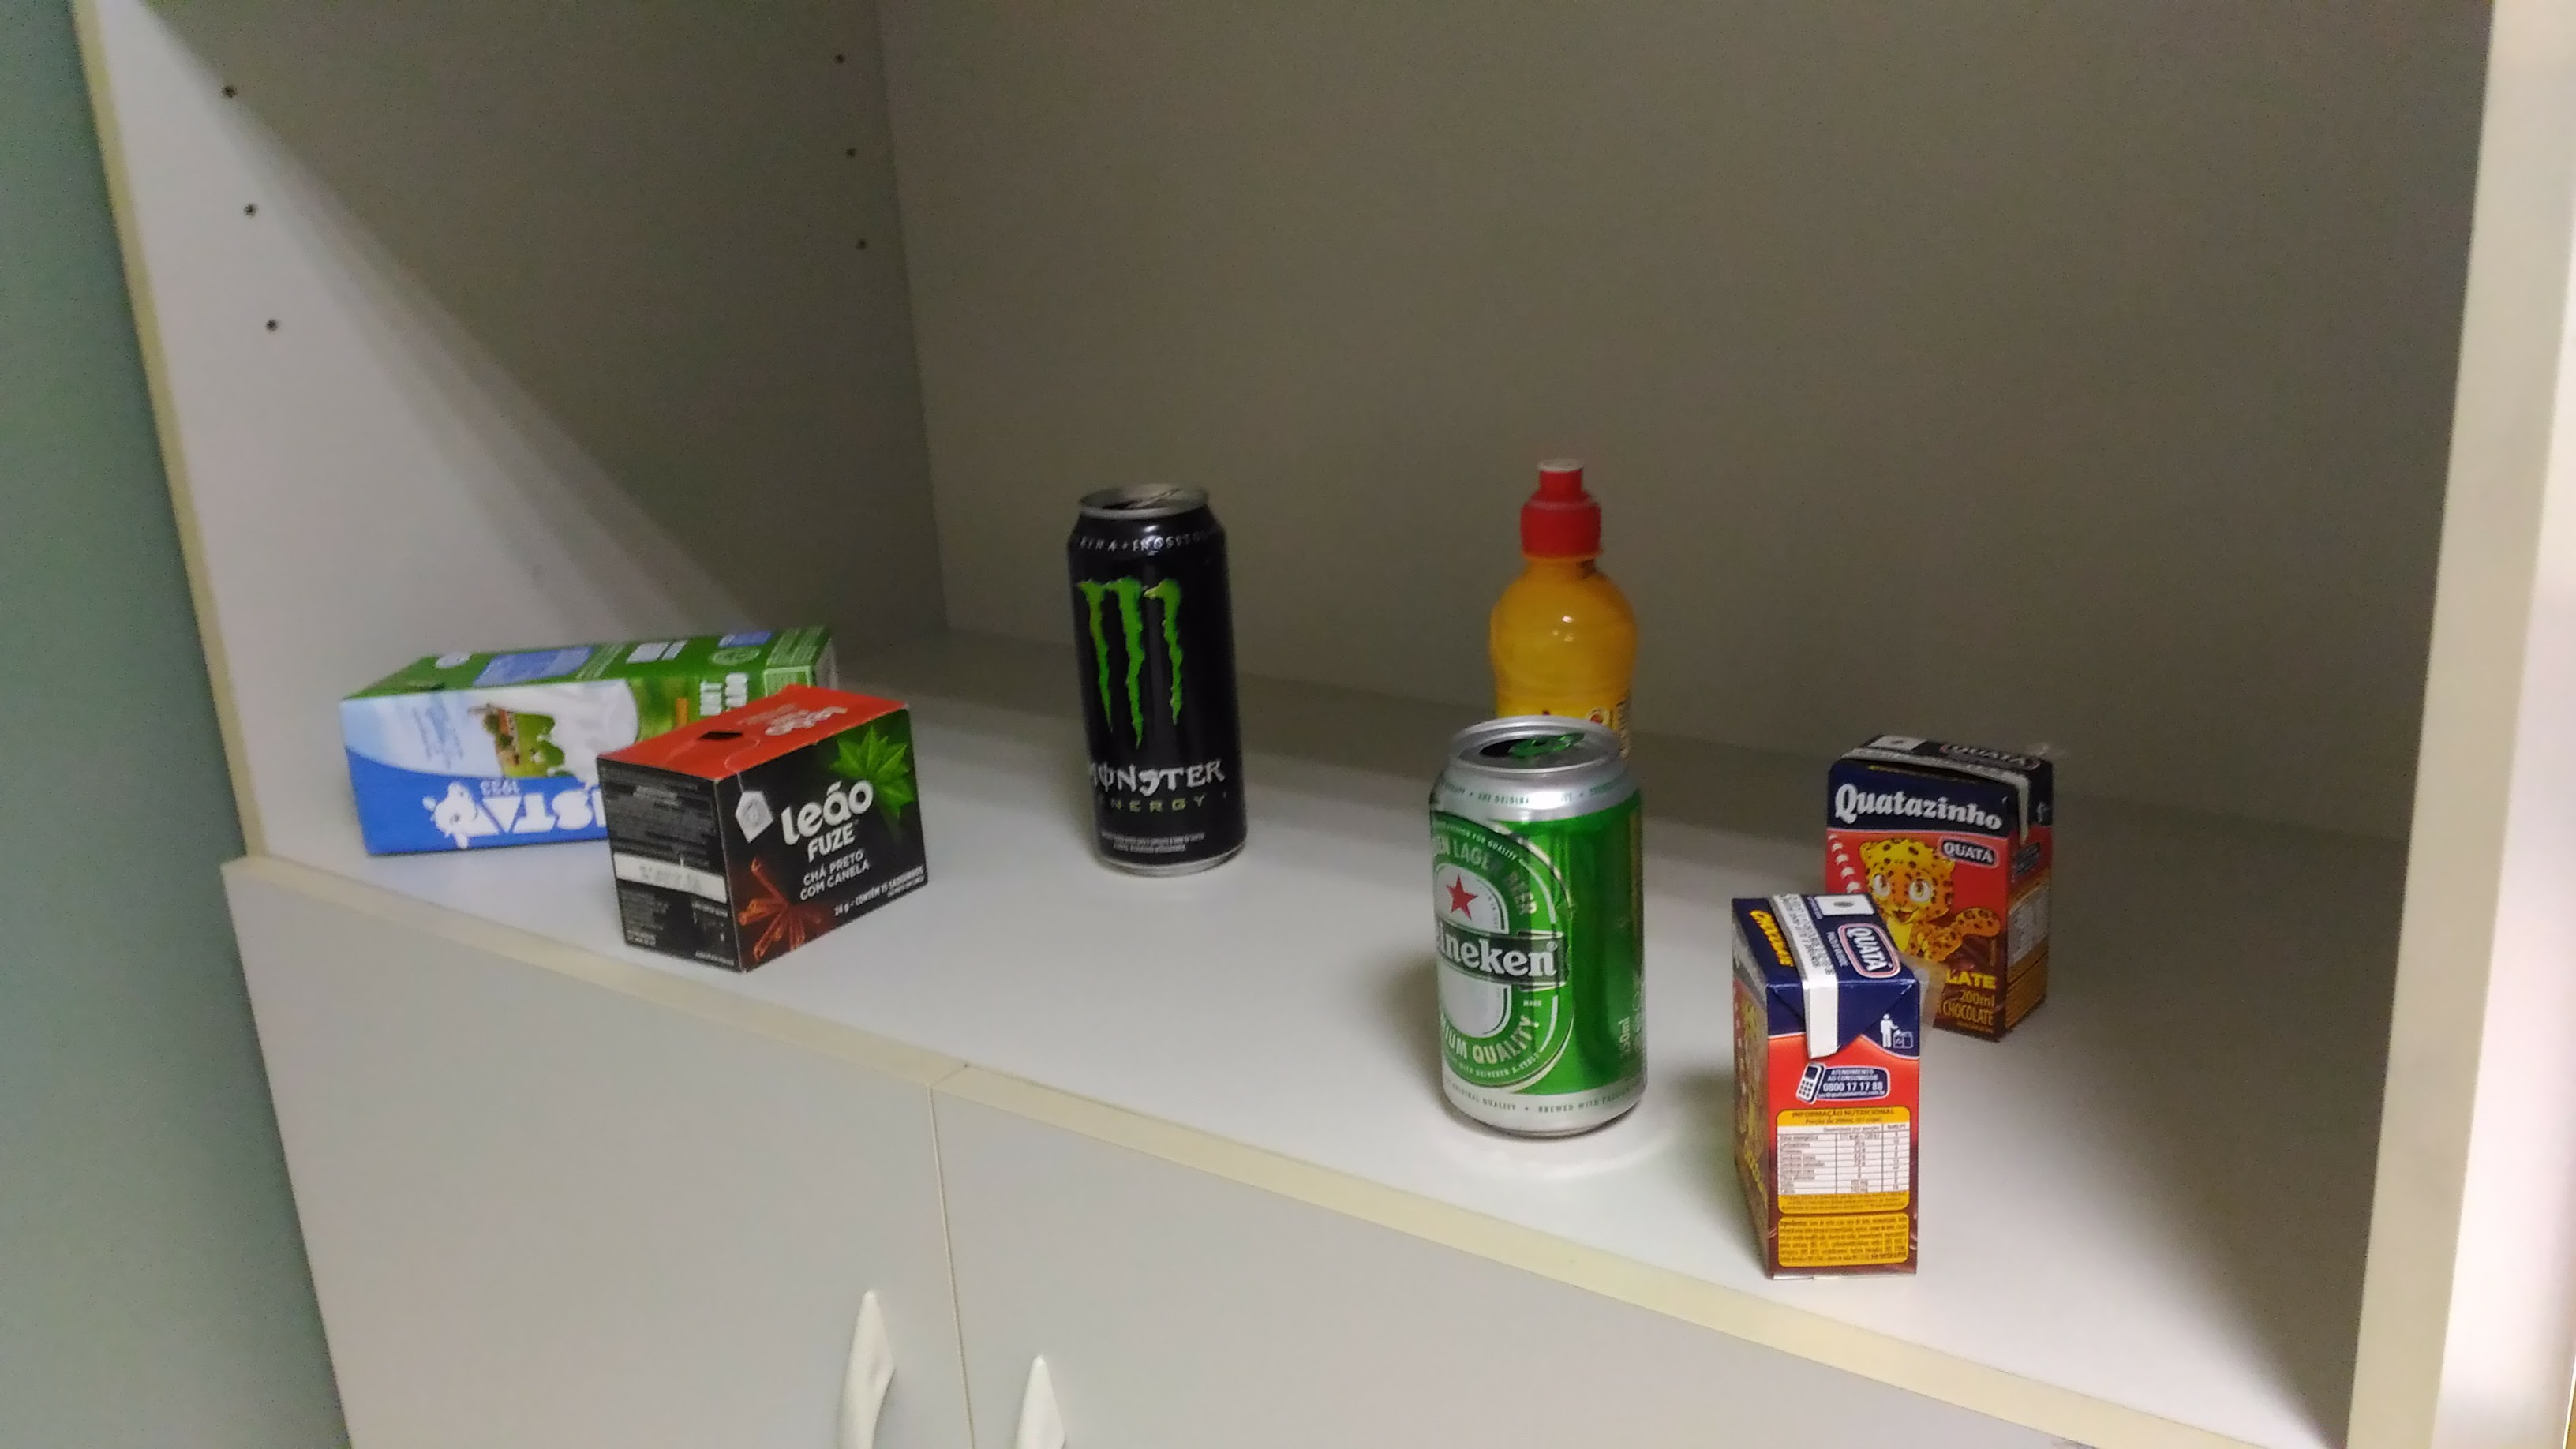heineken: (1419, 709, 1656, 1162)
milk_bottle: (1723, 893, 1921, 1300)
milk_box: (322, 614, 607, 855)
monster: (1062, 472, 1254, 915)
tea_box: (603, 681, 934, 985)
